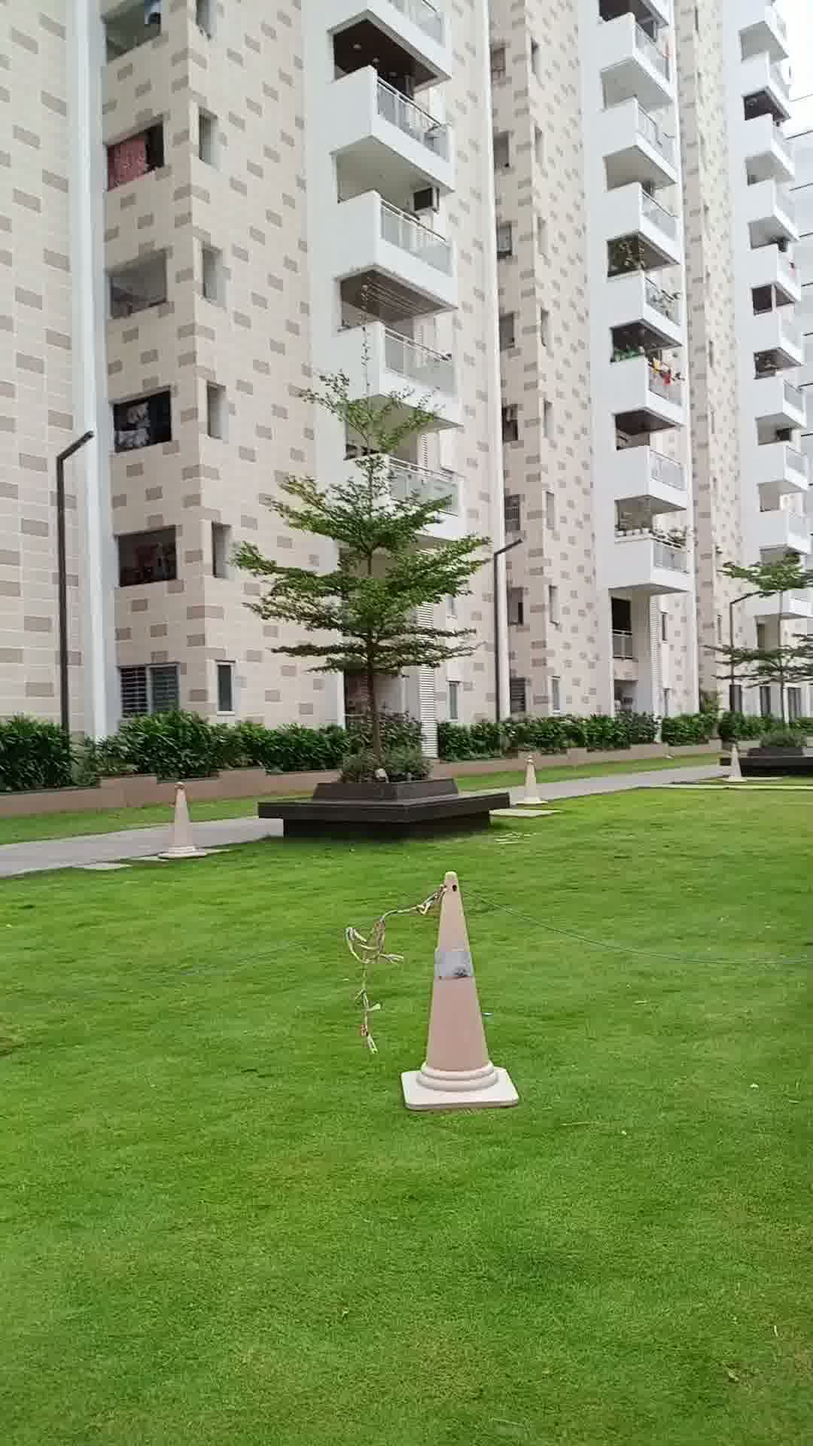tree: (236, 339, 521, 786), (723, 538, 813, 751)
